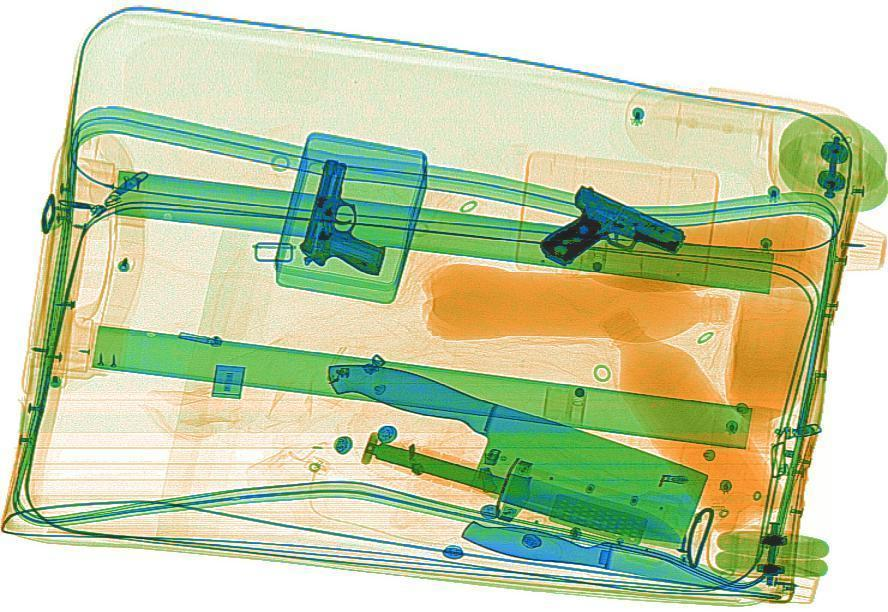Gun: (518, 183, 695, 290), (295, 156, 406, 276)
Knife: (275, 343, 738, 562), (352, 430, 695, 554), (453, 510, 767, 602)
